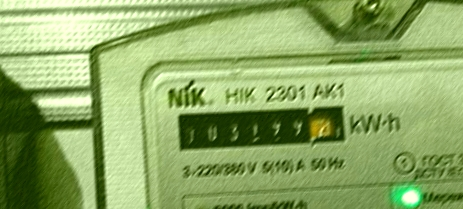0: (182, 121, 196, 144), (205, 119, 219, 140)
1: (249, 116, 261, 135)
3: (227, 120, 240, 140)
6: (317, 121, 328, 138)
9: (270, 115, 283, 135), (291, 115, 304, 135)
screen: (170, 93, 356, 163)
